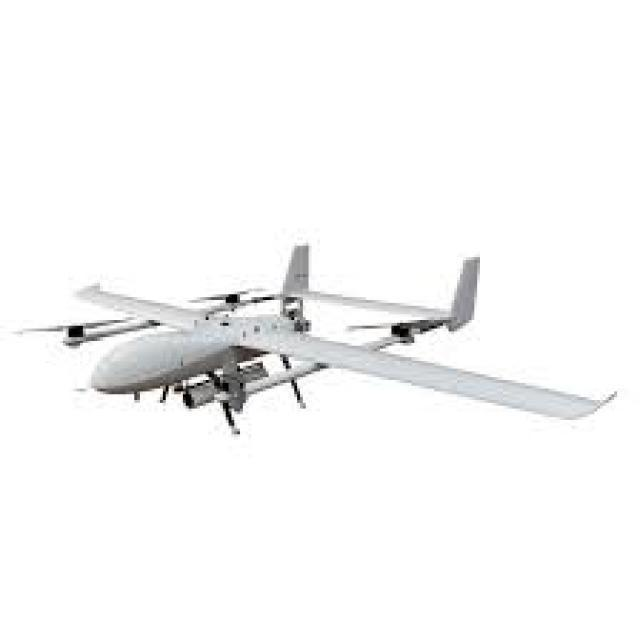UAV: (83, 246, 567, 427)
